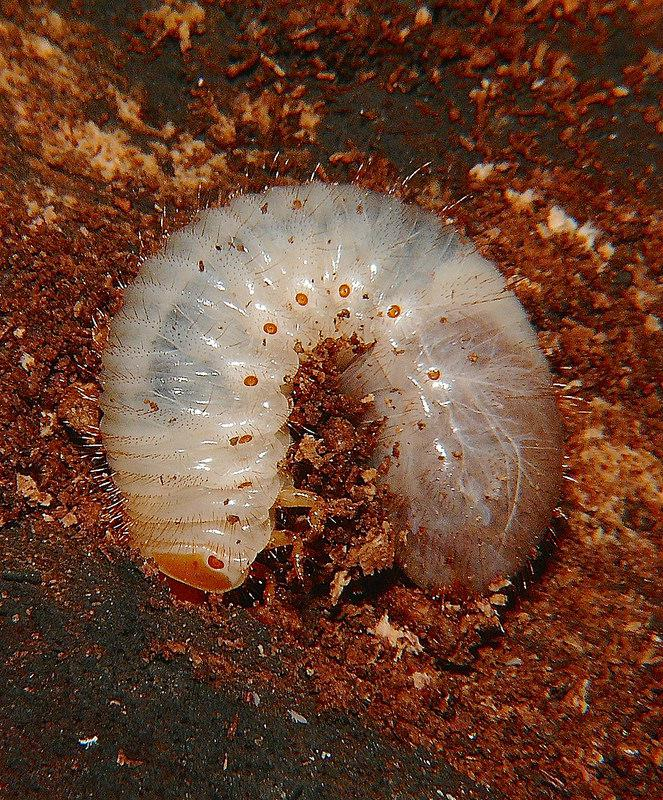grub: (98, 181, 565, 613)
